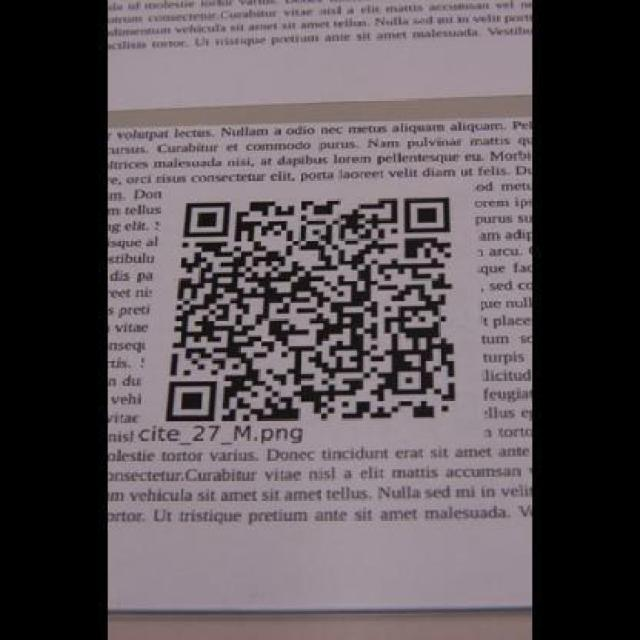QRCode: (157, 190, 462, 423)
